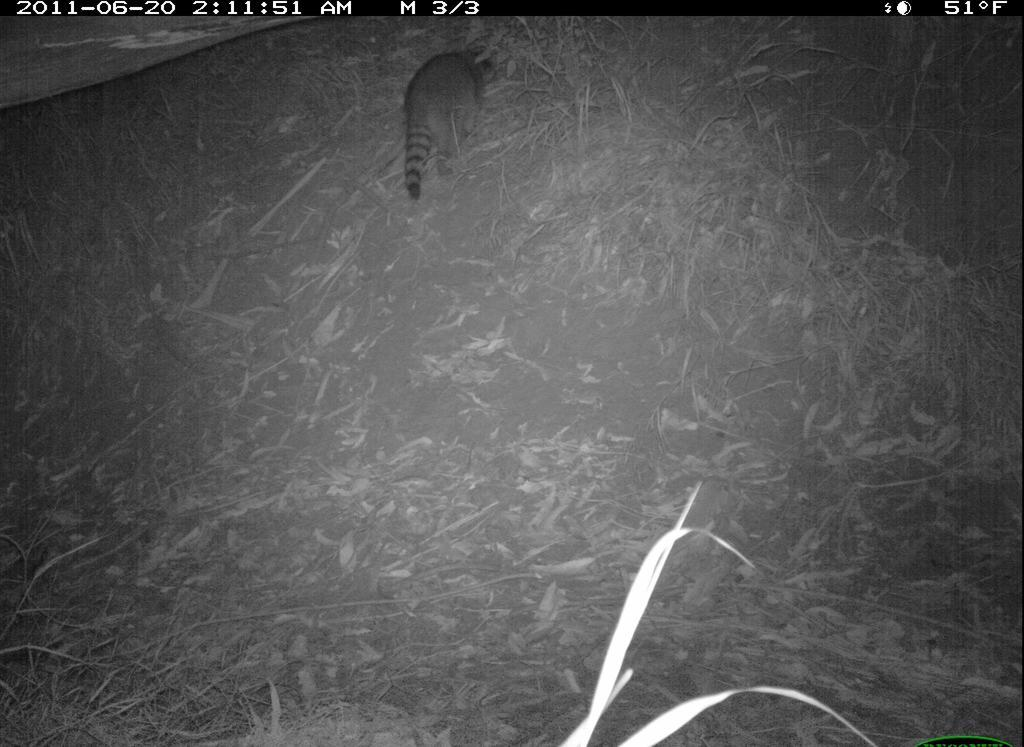raccoon: (395, 39, 507, 201)
